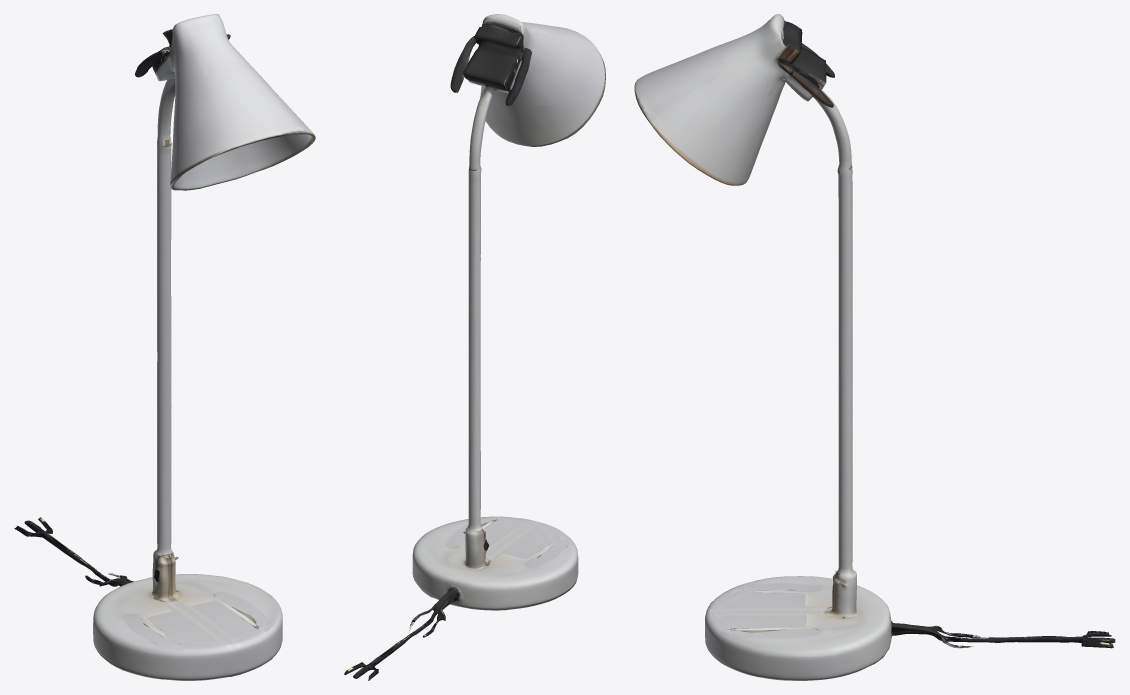
File: Desk_Lamp.glb
3 renders of one model, left to right at view 1: azimuth 30°, elevation 25°; view 2: azimuth 150°, elevation 25°; view 3: azimuth 270°, elevation 25°, orthographic. The views are drawn at different scales.
Size of the model in its own units: 0.5438 by 2 by 1.4.
Materials: 1 (1 with a texture image).
